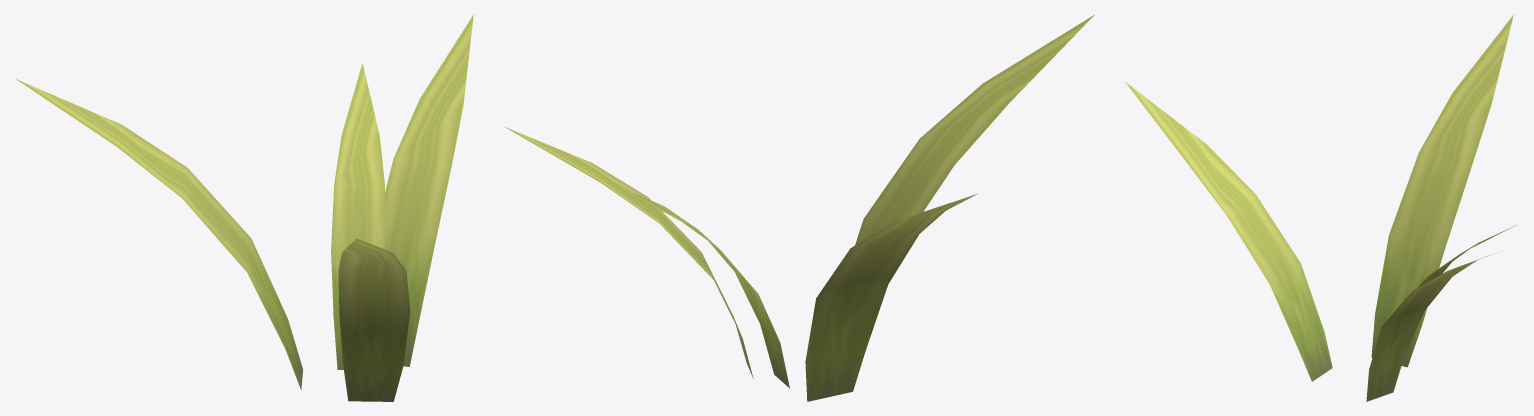
The model's file is grass4.fbx.
3 views of the same model, side by side, from view 1: azimuth 30°, elevation 25°; view 2: azimuth 150°, elevation 25°; view 3: azimuth 270°, elevation 25° (orthographic). The views are drawn at different scales.
Parts seen in each view (by area): view 1: Plane.007; view 2: Plane.007; view 3: Plane.007.
Boxes of the visible parts, bbox=[...] form: Plane.007: bbox=[15, 15, 473, 401]; Plane.007: bbox=[503, 14, 1094, 401]; Plane.007: bbox=[1124, 14, 1516, 401].
Size of the model in its own units: 42.83 by 26.87 by 37.3.
